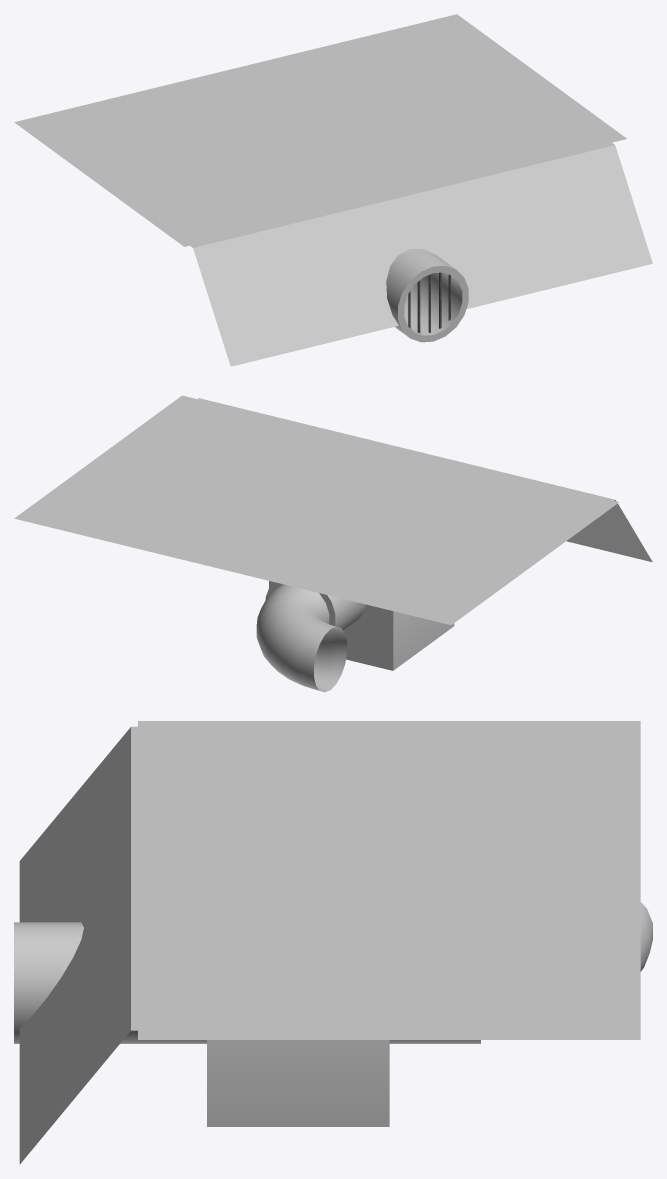
The model's file is Beton_Canal.FBX.
3 views of the same model, one above another, from view 1: azimuth 30°, elevation 25°; view 2: azimuth 150°, elevation 25°; view 3: azimuth 270°, elevation 25° (orthographic). The views are drawn at different scales.
Parts seen in each view (by area): view 1: Plane001, Object002, Cylinder003; view 2: Plane001, Object002; view 3: Plane001, Object002.
Boxes of the visible parts, x1,y1,x2,y2 form: Plane001: (14, 14, 626, 246); Object002: (190, 142, 652, 366); Cylinder003: (408, 272, 450, 333); Plane001: (14, 395, 618, 625); Object002: (198, 398, 652, 692); Plane001: (138, 721, 640, 1039); Object002: (14, 726, 652, 1164).
Bounding box in the file's own units: 157 × 48.78 × 133.
